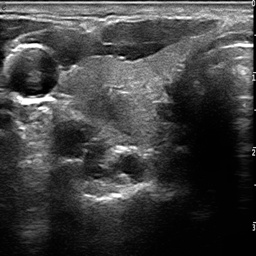mass: (83, 86, 131, 132)
